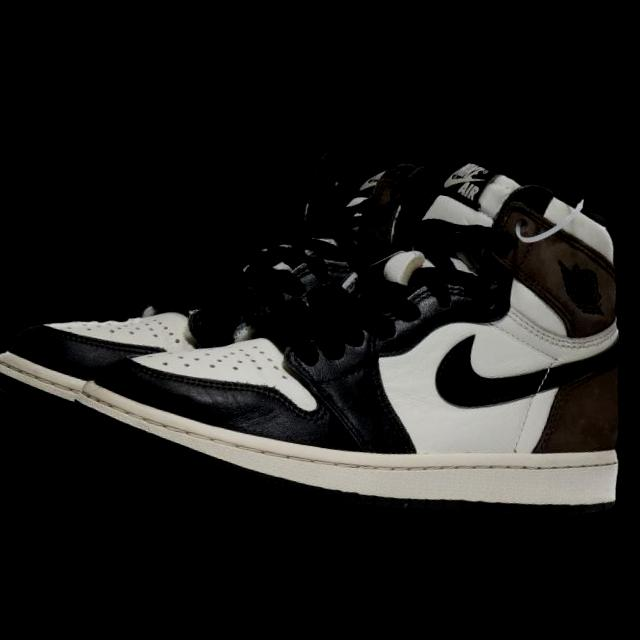nike_original_jordan: (71, 107, 640, 545), (0, 97, 519, 482)
